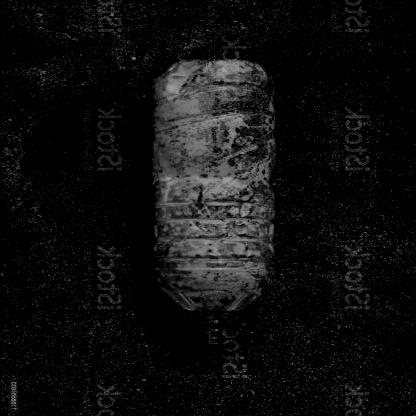bottle: (94, 52, 288, 354)
